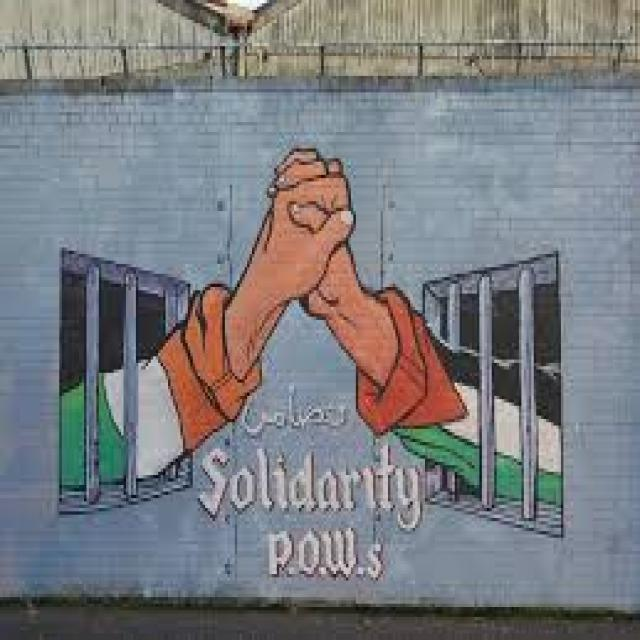-: (48, 148, 565, 576)
